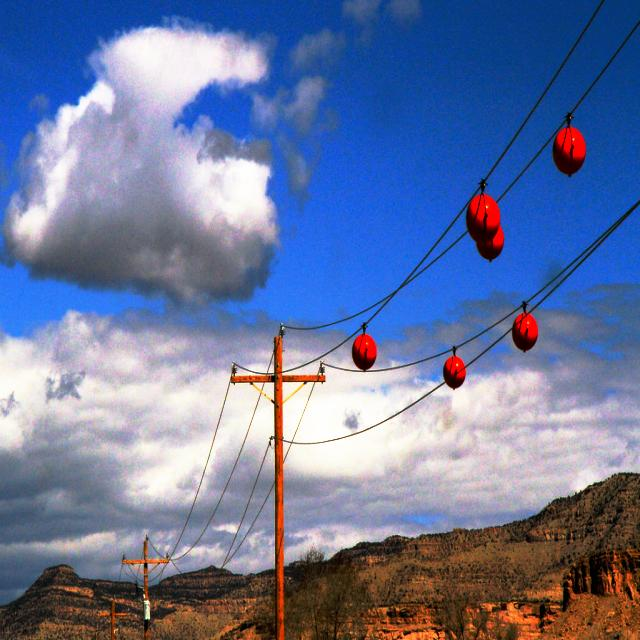poles: (271, 331, 291, 639), (230, 342, 329, 387)
wires: (463, 0, 639, 263), (341, 234, 454, 374), (429, 278, 562, 392), (209, 419, 263, 573)
